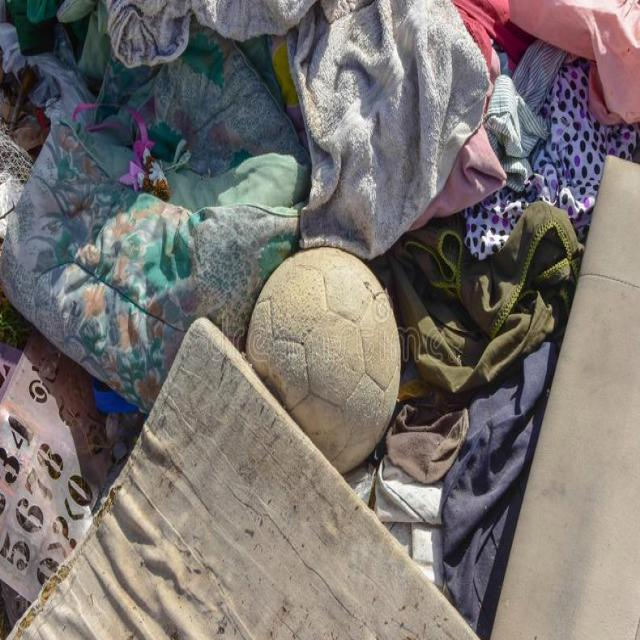clothes: (126, 35, 513, 234), (412, 308, 520, 511)
